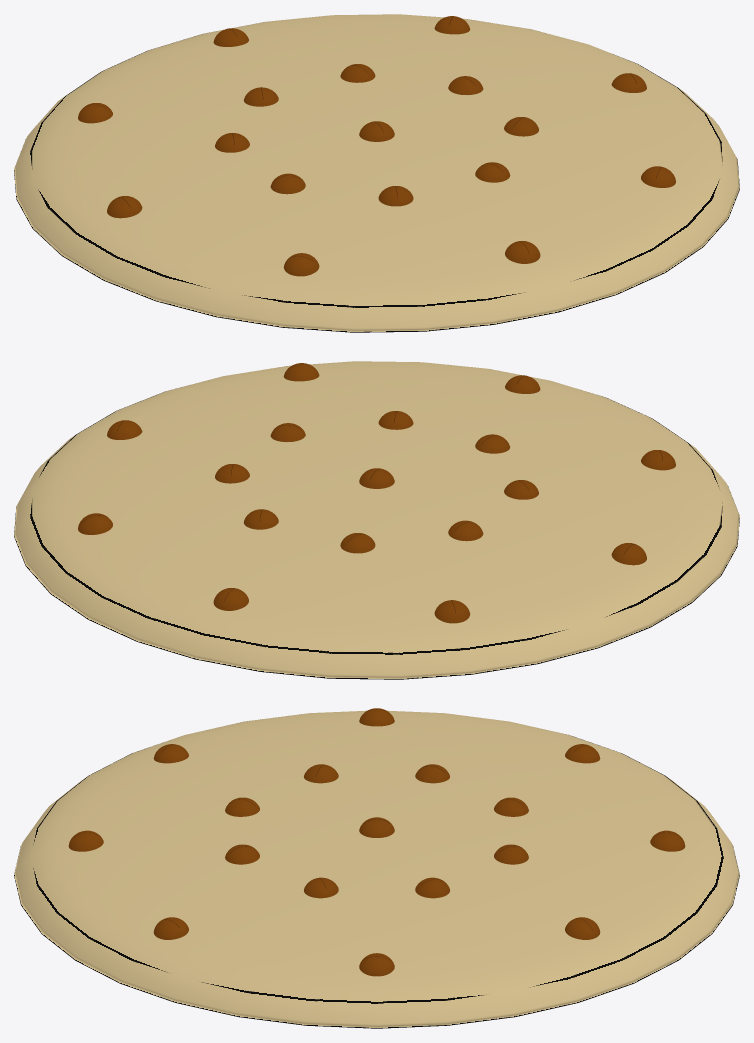
Rendered from Cookie.glb.
3 renders of one model, top to bottom at view 1: azimuth 30°, elevation 25°; view 2: azimuth 150°, elevation 25°; view 3: azimuth 270°, elevation 25°, orthographic.
Parts seen in each view (by area): view 1: Cookie, ChoclateChips; view 2: Cookie, ChoclateChips; view 3: Cookie, ChoclateChips.
Part boxes in pixels (x1,y1,x2,y2): Cookie: [14, 14, 739, 332]; ChoclateChips: [78, 16, 675, 276]; Cookie: [14, 361, 739, 679]; ChoclateChips: [78, 363, 675, 623]; Cookie: [14, 710, 739, 1028]; ChoclateChips: [68, 708, 685, 976].
Size of the model in its own units: 2 by 0.1703 by 2.
1 material, 1 textured.
